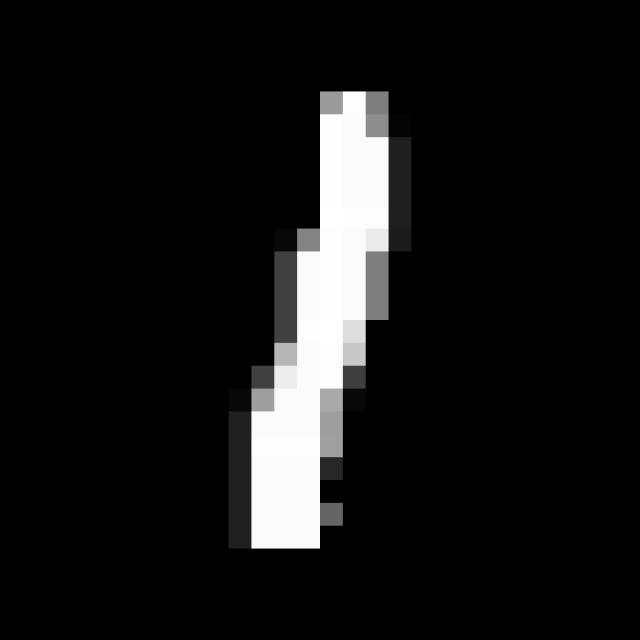one -1-: (226, 71, 420, 571)
